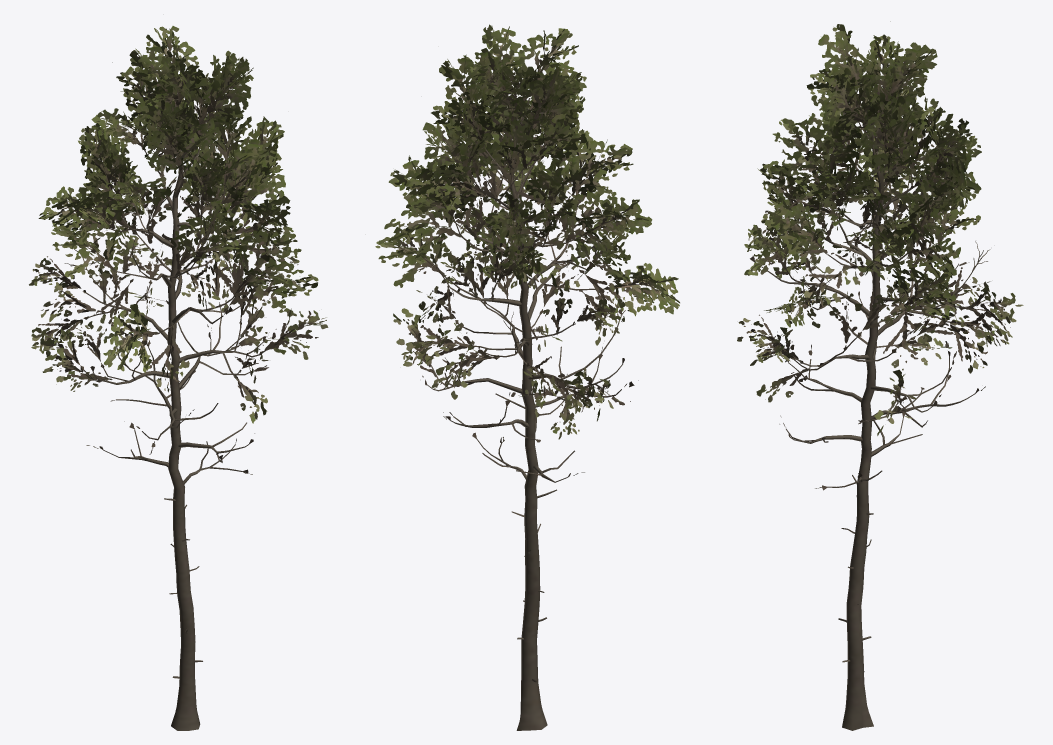
Rendered from SM_BlackAlder_Forest_01_PP_LOD5.gltf.
3 renders of one model, left to right at view 1: azimuth 30°, elevation 25°; view 2: azimuth 150°, elevation 25°; view 3: azimuth 270°, elevation 25°, orthographic. The views are drawn at different scales.
Visible parts, largest first — view 1: SM_BlackAlder_Forest_01_PP; view 2: SM_BlackAlder_Forest_01_PP; view 3: SM_BlackAlder_Forest_01_PP.
Part boxes in pixels (box(x1,y1,x2,y2)): SM_BlackAlder_Forest_01_PP: box(29, 26, 328, 730); SM_BlackAlder_Forest_01_PP: box(375, 24, 679, 730); SM_BlackAlder_Forest_01_PP: box(737, 21, 1023, 730).
Bounding box in the file's own units: 8.66 × 21.18 × 8.72.
2 materials, 2 textured.
